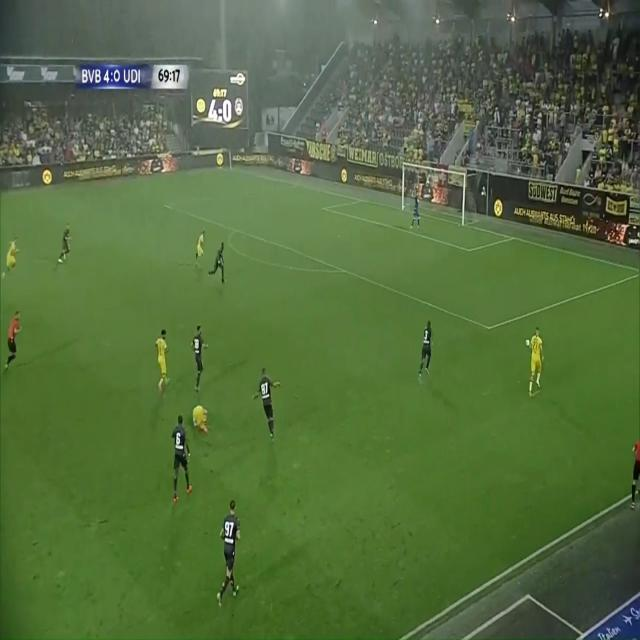ball: (525, 337, 531, 350)
goalkeeper: (410, 187, 425, 241)
player: (216, 486, 249, 622), (248, 356, 290, 459), (168, 409, 194, 510), (417, 311, 441, 386), (153, 322, 175, 396), (187, 318, 210, 388), (528, 321, 547, 397), (1, 227, 21, 282), (210, 241, 229, 293), (191, 396, 213, 437), (191, 225, 208, 276), (56, 218, 73, 267)
referee: (4, 302, 22, 378)
